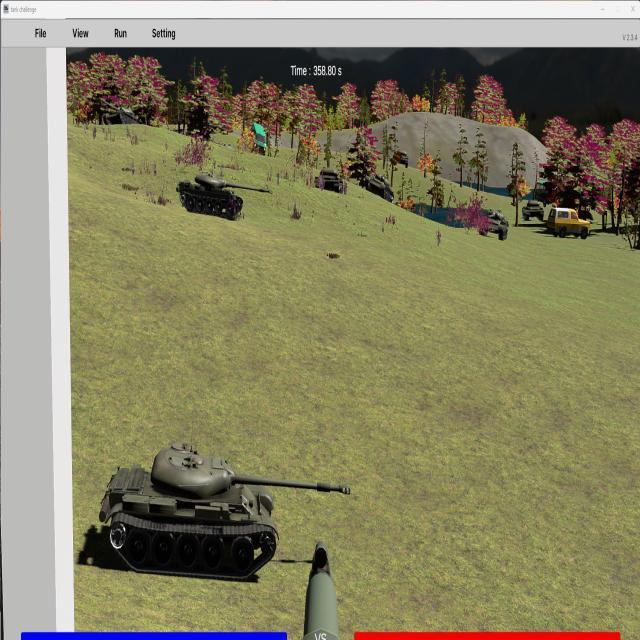Tank: (98, 442, 351, 580), (176, 173, 272, 220), (92, 98, 140, 127), (361, 172, 394, 203), (478, 209, 509, 241), (316, 167, 346, 195)
car: (548, 207, 591, 239), (252, 122, 267, 155)
